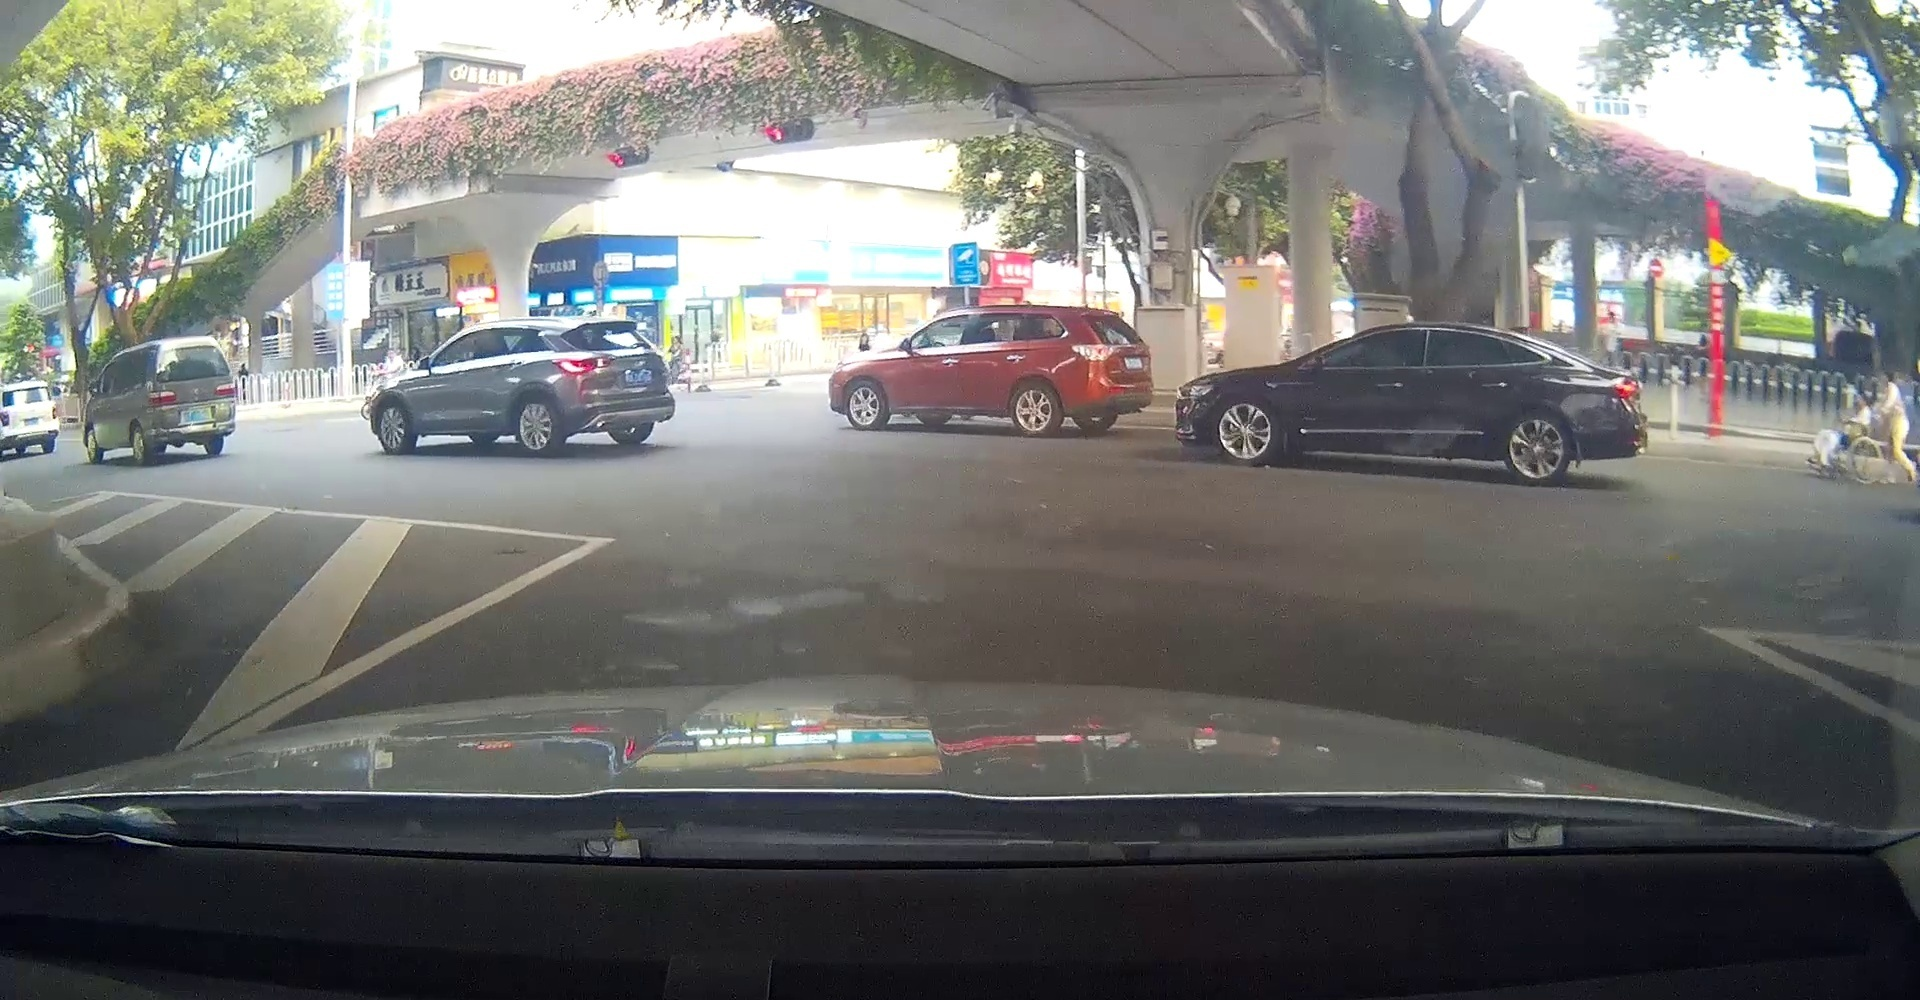L_light: (147, 391, 177, 405), (0, 411, 10, 425)
R_light: (215, 383, 234, 395), (53, 407, 57, 419)
T_light: (184, 348, 202, 352), (24, 390, 36, 391)
day-no: (146, 336, 235, 463), (0, 381, 58, 457)
